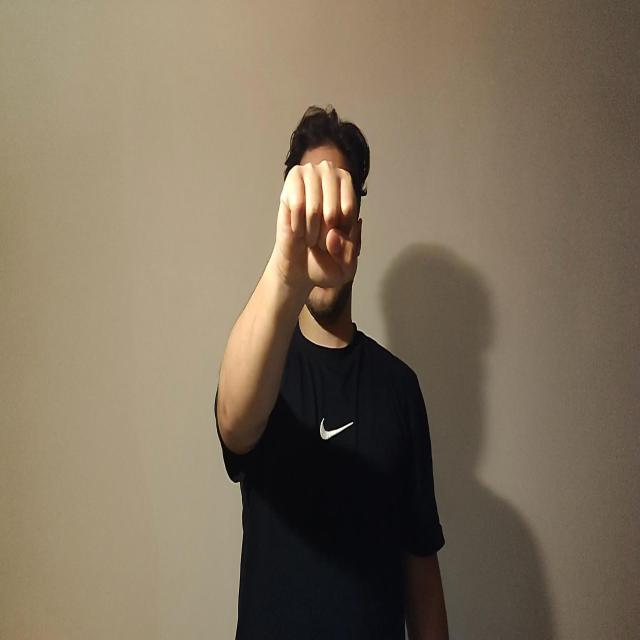yes: (275, 159, 361, 296)
